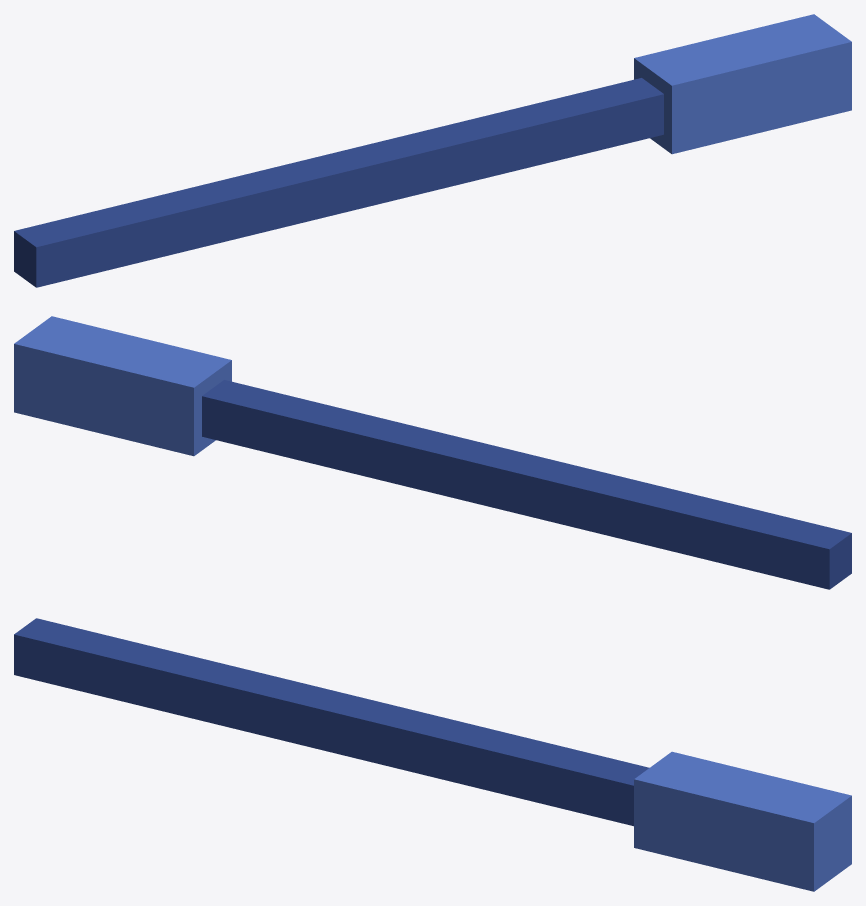
Rendered from Cable_D_1_1.glb.
3 views of the same model, one above another, from view 1: azimuth 30°, elevation 25°; view 2: azimuth 150°, elevation 25°; view 3: azimuth 330°, elevation 25° (orthographic).
Parts seen in each view (by area): view 1: Cable_D_1_1; view 2: Cable_D_1_1; view 3: Cable_D_1_1.
Boxes of the visible parts, left/top/right/bottom form: Cable_D_1_1: left=14, top=14, right=851, bottom=287; Cable_D_1_1: left=14, top=316, right=851, bottom=589; Cable_D_1_1: left=14, top=618, right=851, bottom=891.
Size of the model in its own units: 1.21 by 0.0983 by 0.0983.
1 material, 1 textured.
